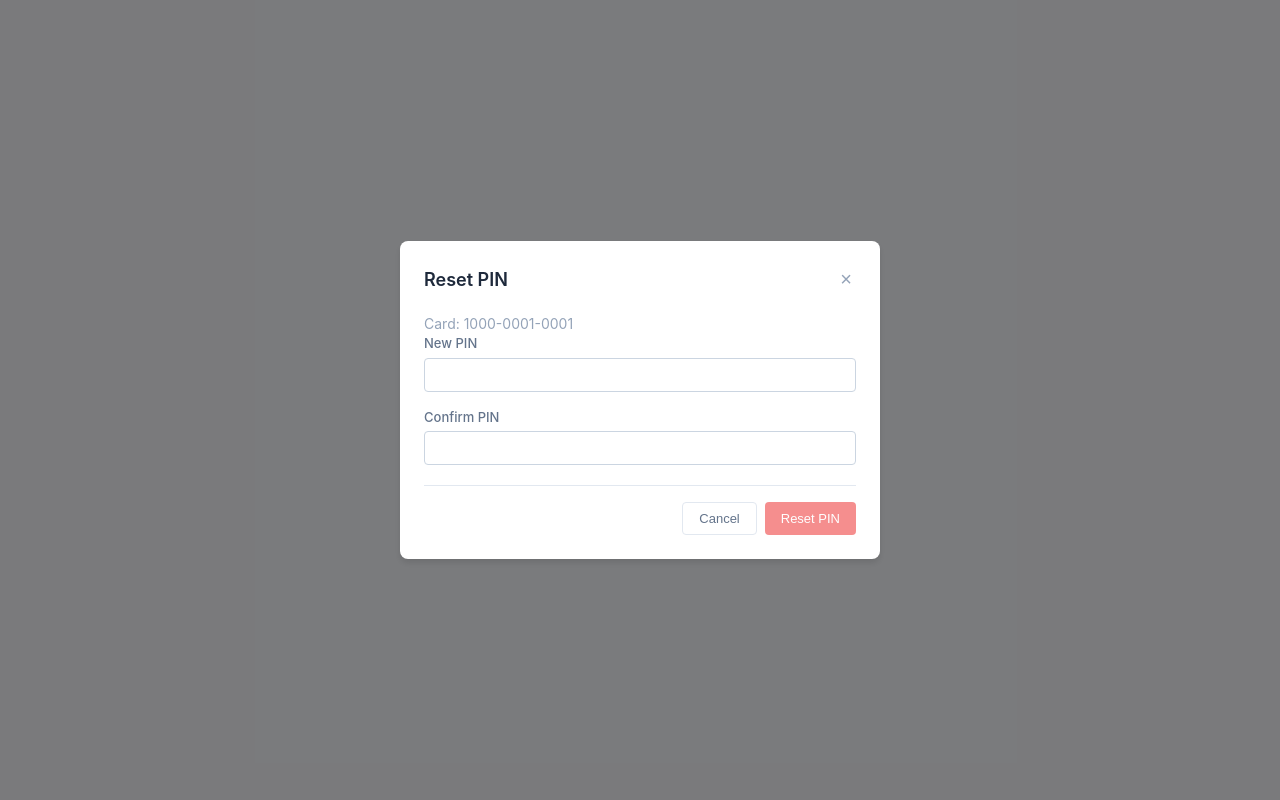
Test: PinResetModal › shows complexity error for repeated digits
Step 1. Type "1111" into the password field labelled "New PIN" → (640, 374), box x1=424 y1=358 x2=856 y2=392
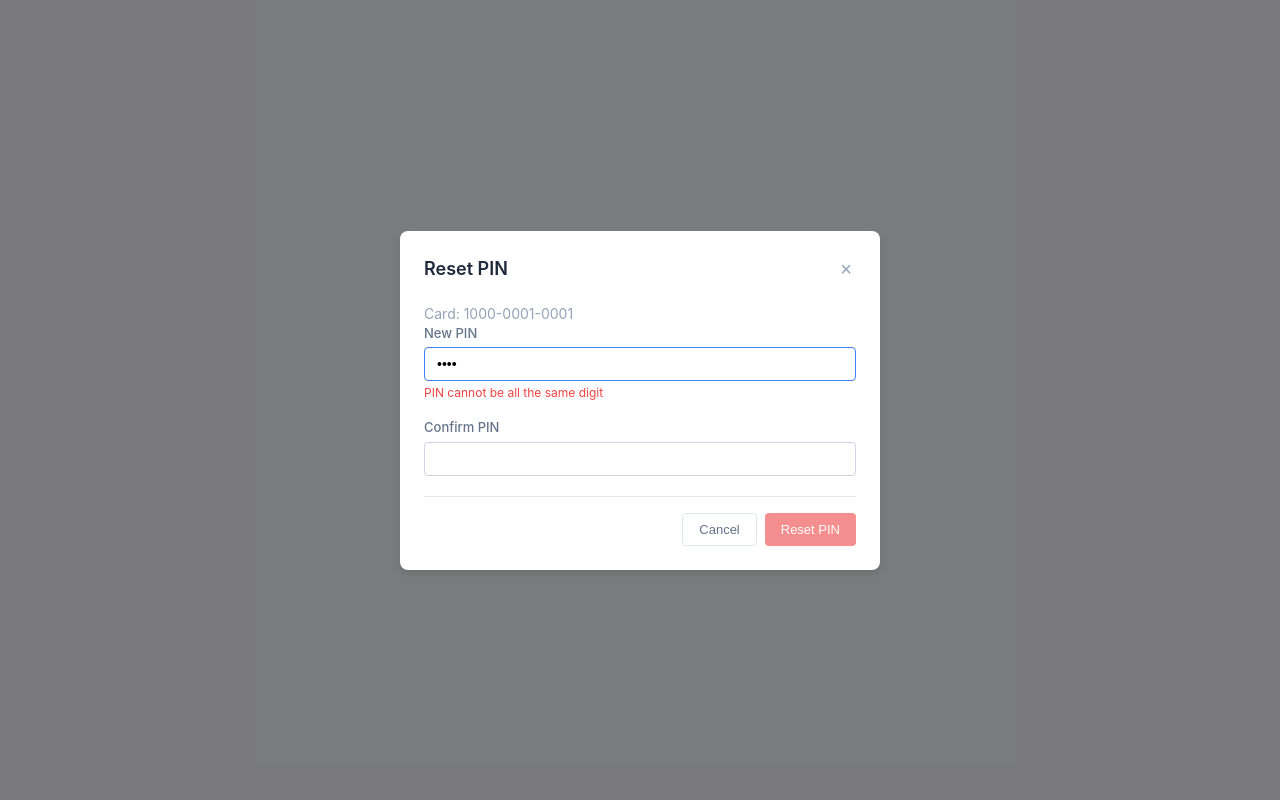
expect the text "PIN cannot be all the same digit" is shown: met, box x1=424 y1=385 x2=603 y2=400
